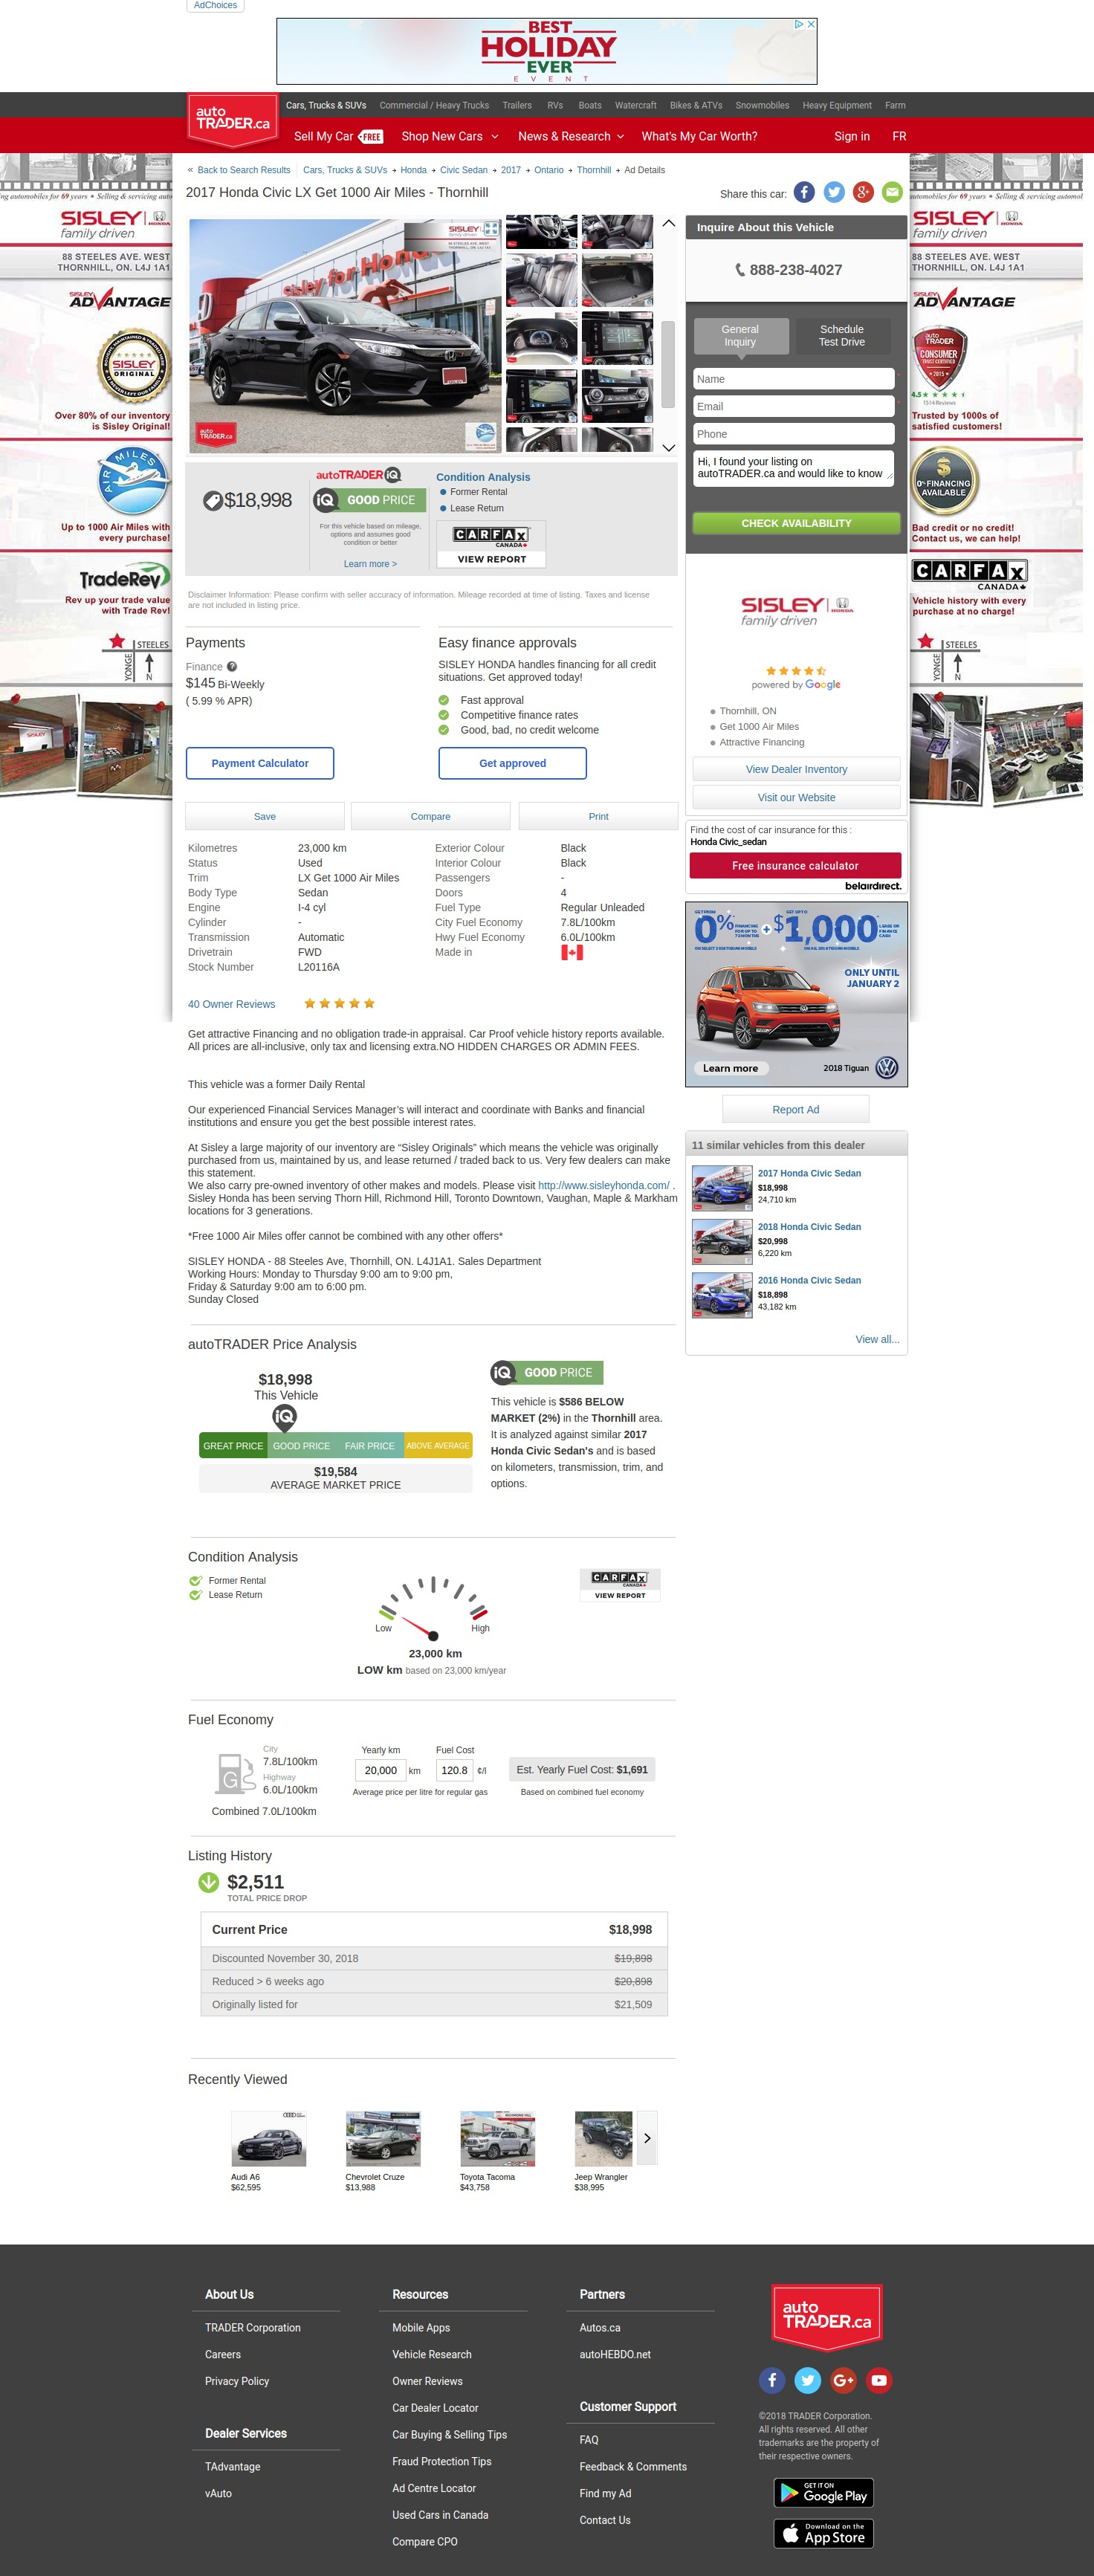car: (660, 442, 678, 455)
